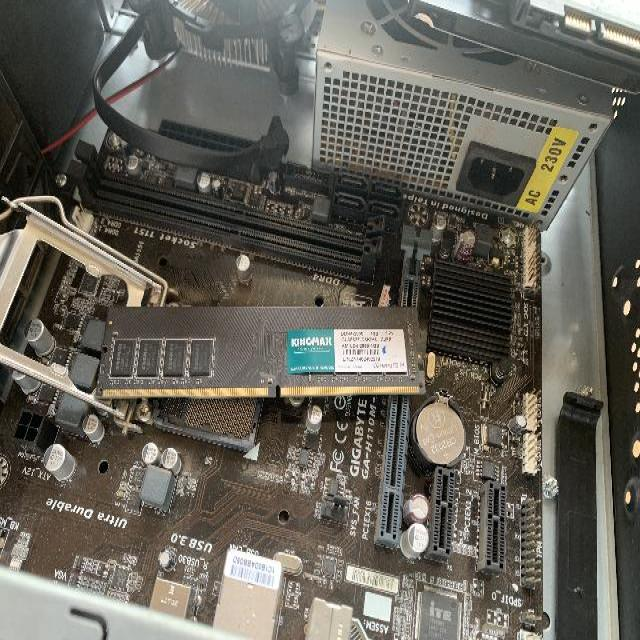Mainboard: (0, 214, 542, 640)
RAM: (94, 304, 427, 401)
